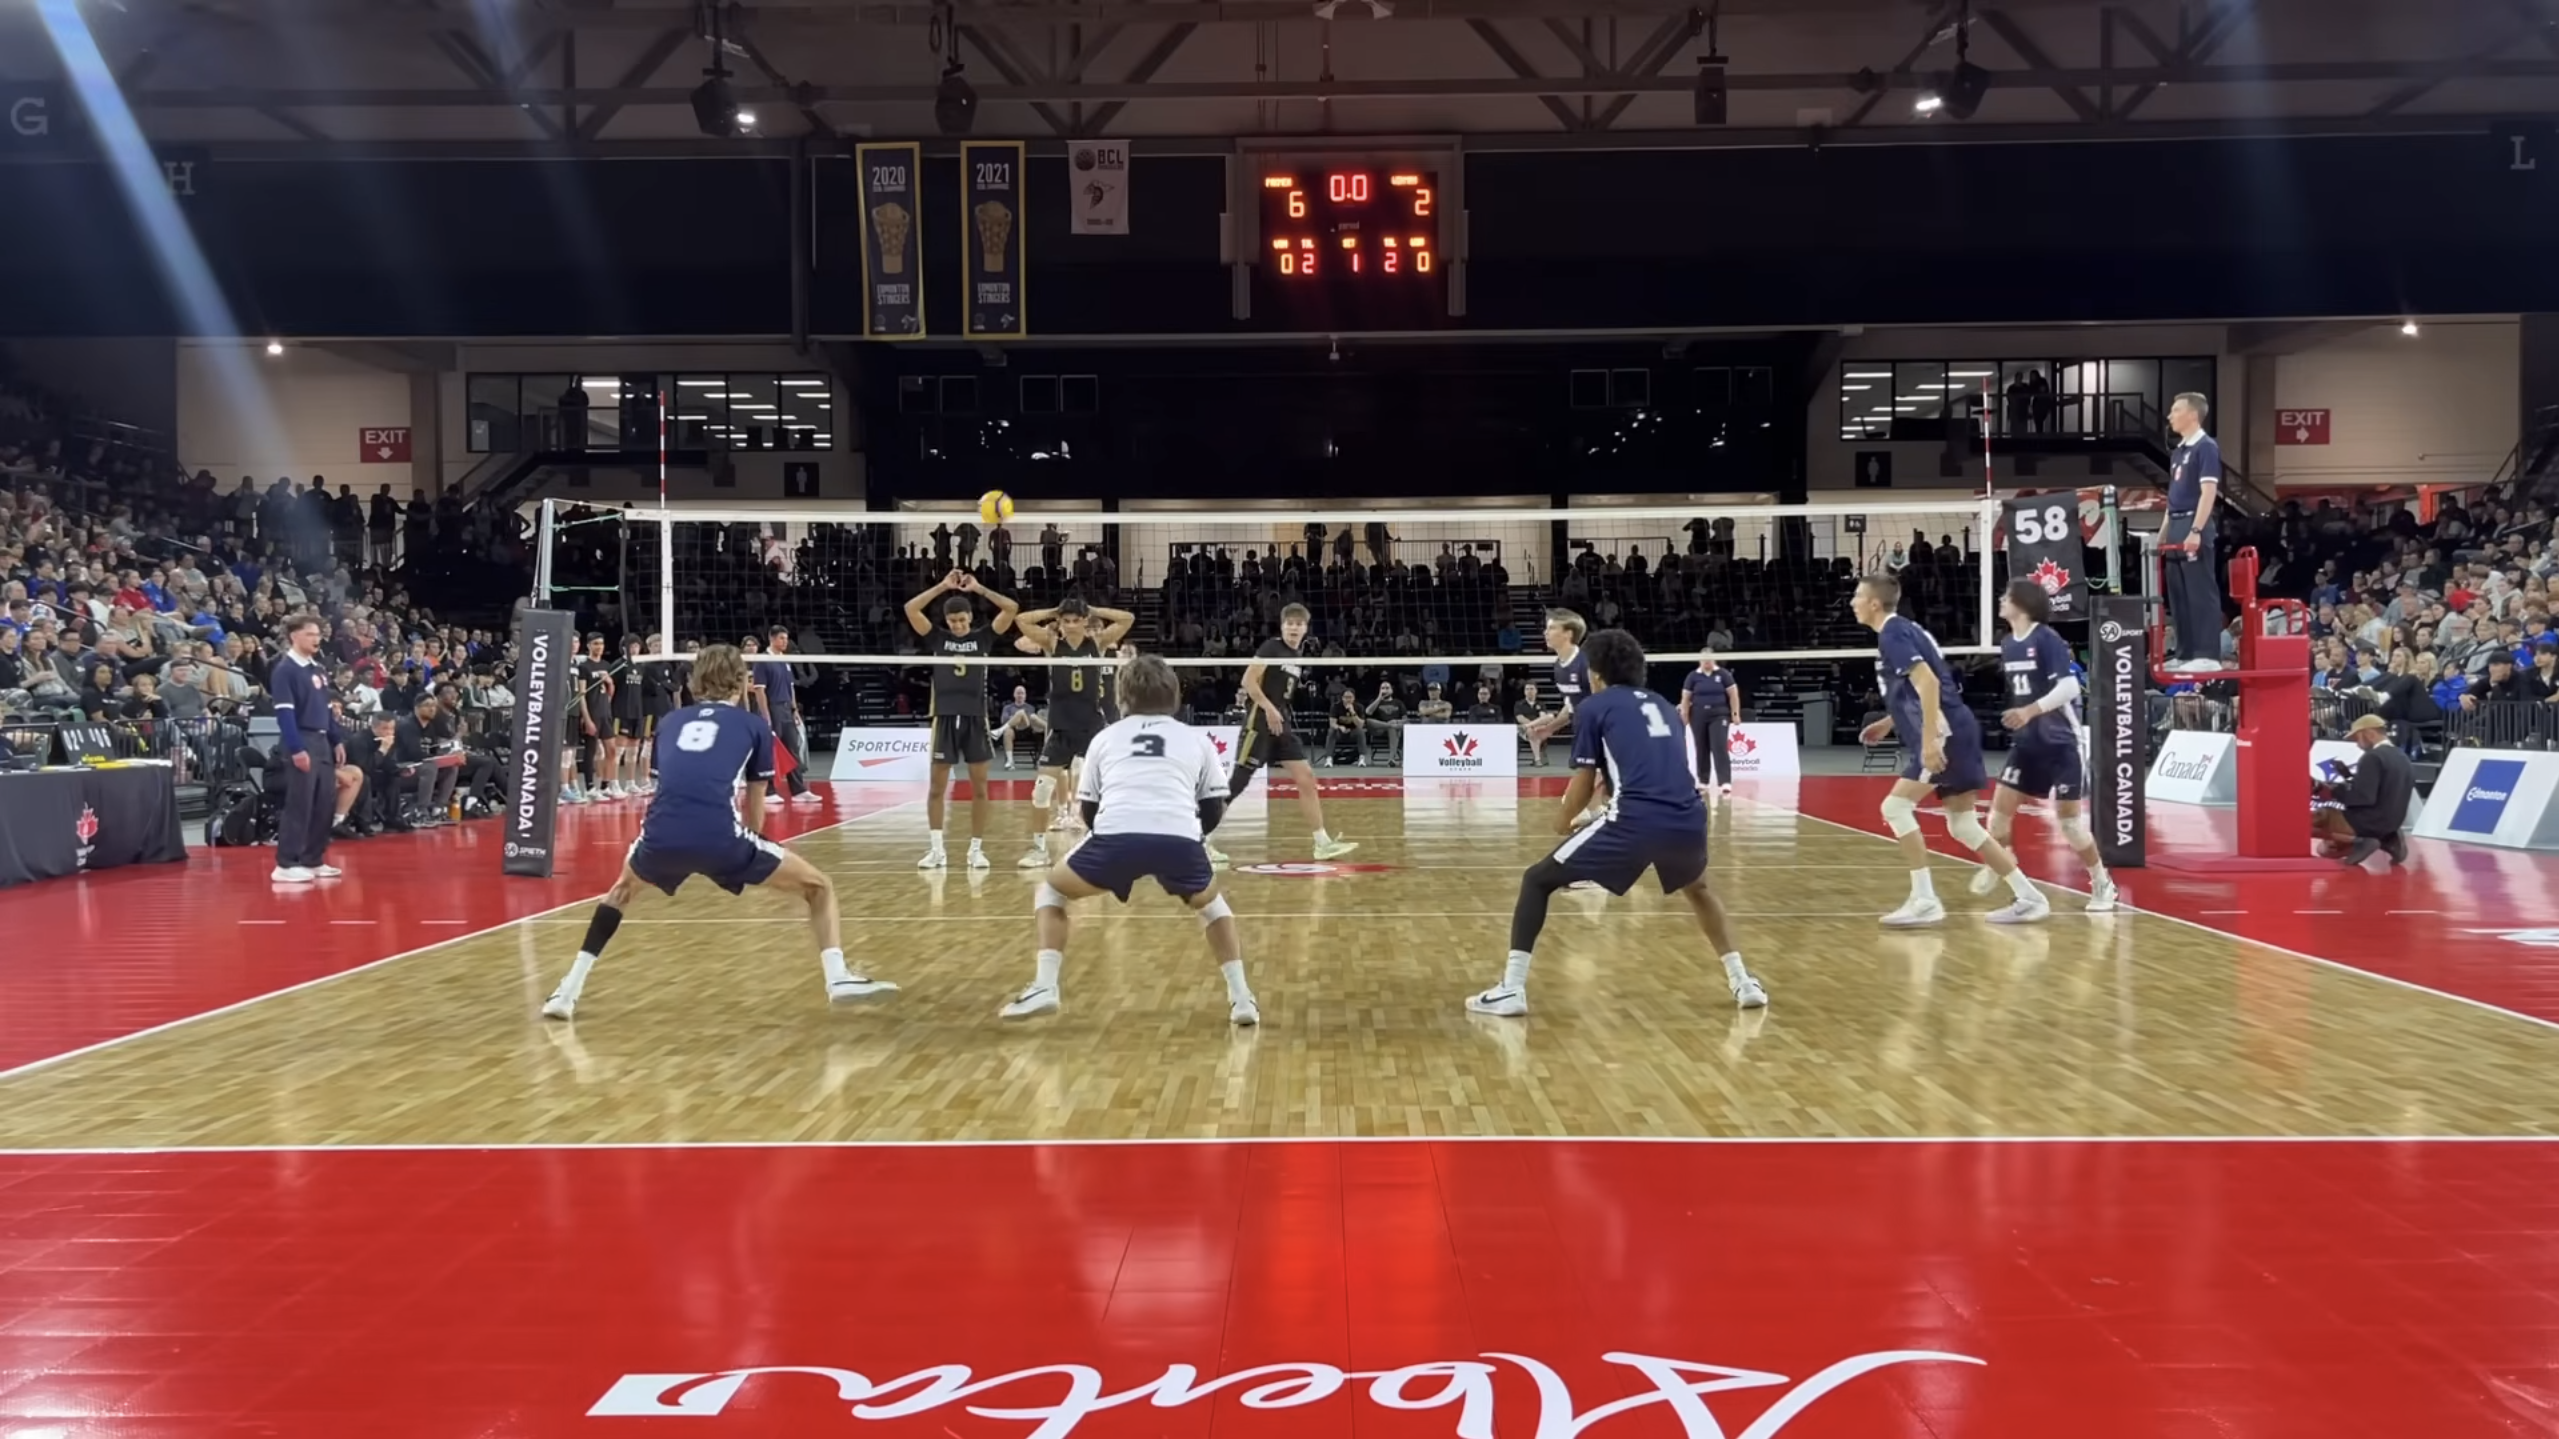Ball: (977, 487, 1014, 527)
